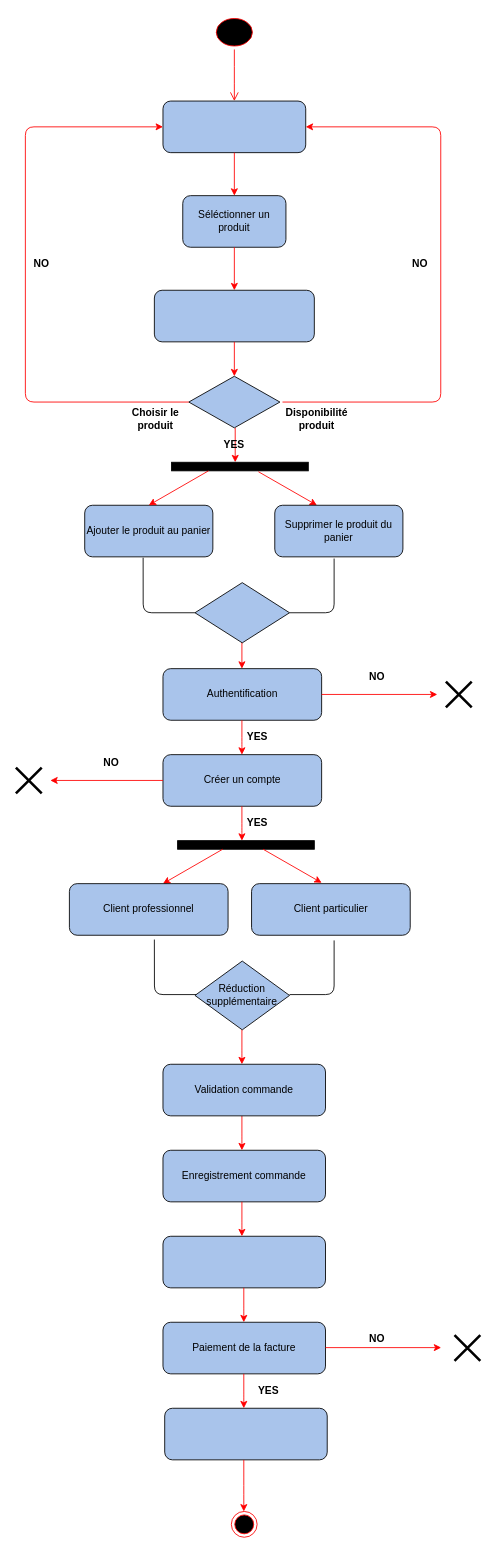
The diagram is 496 pixels wide and 1552 high, and some of its shapes have lost their labels. Each missing label, with the centre of its shape:
"Consulter la fiche produit" belongs at point 234,315.
"Consulter le catalogue produit" belongs at point 234,126.
"Enregistrement paiement client" belongs at point 245,1433.
"Envoie la facture" belongs at point 244,1261.
"Valider le panier" belongs at point 242,612.
